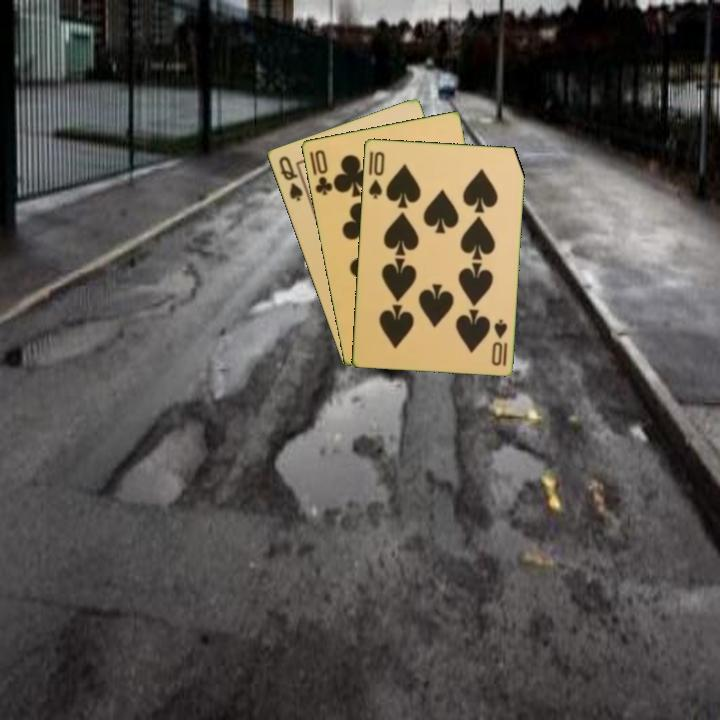10c: (305, 146, 335, 198)
10s: (365, 148, 387, 201), (488, 316, 510, 368)
Qs: (275, 152, 305, 204)
